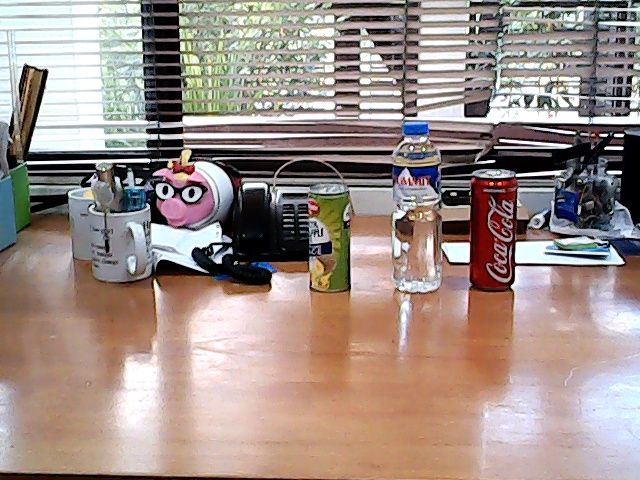Cola: (462, 157, 530, 301)
Pine Juice: (301, 176, 361, 303)
Summit Water: (377, 113, 454, 302)
